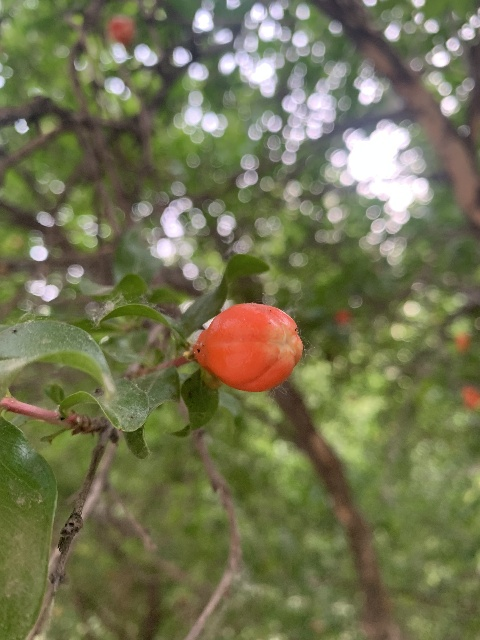bud: (193, 302, 302, 393)
